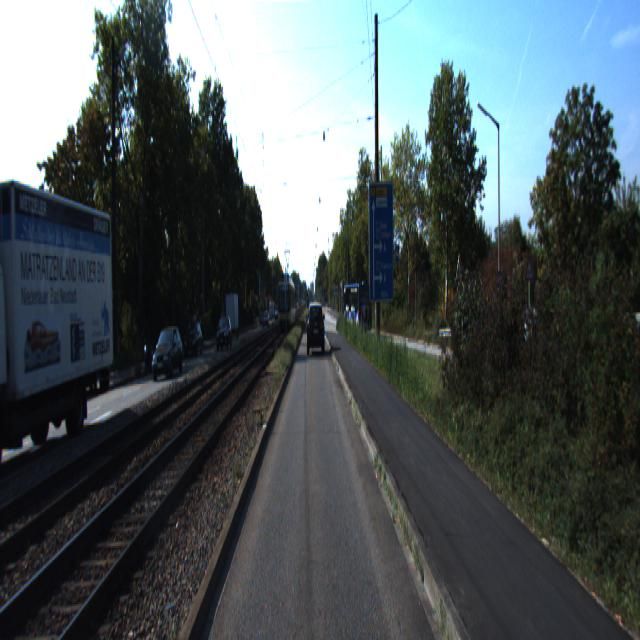Car: (0, 156, 117, 482), (150, 321, 184, 380), (343, 284, 372, 336), (307, 303, 324, 356), (184, 321, 204, 358), (215, 313, 233, 349), (224, 291, 238, 337)
